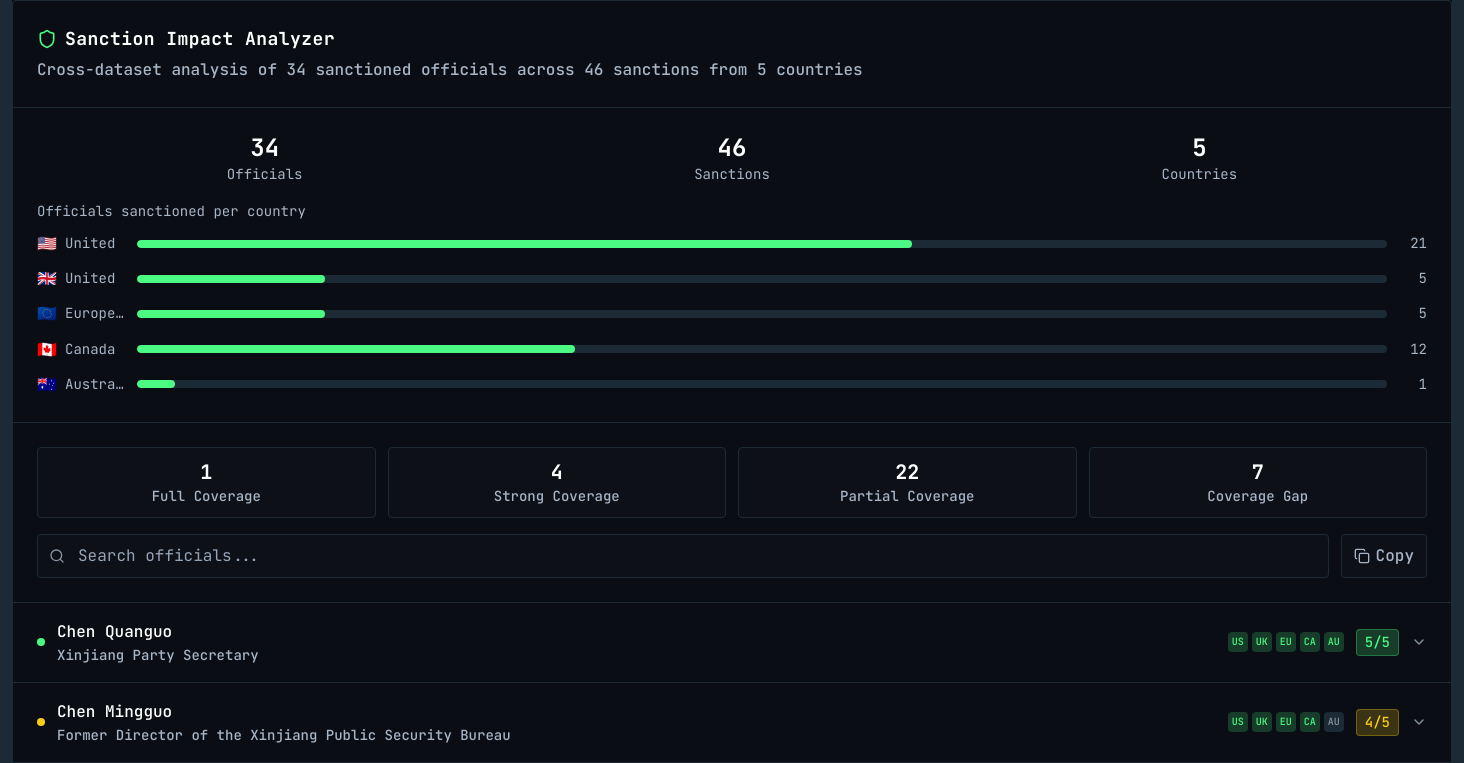
Test: SanctionImpactAnalyzer › shows Clear button when coverage filter is active
The width and height of the screenshot is (1464, 763).
Click the button "1 Full Coverage": (206, 482) [37,447,376,518]
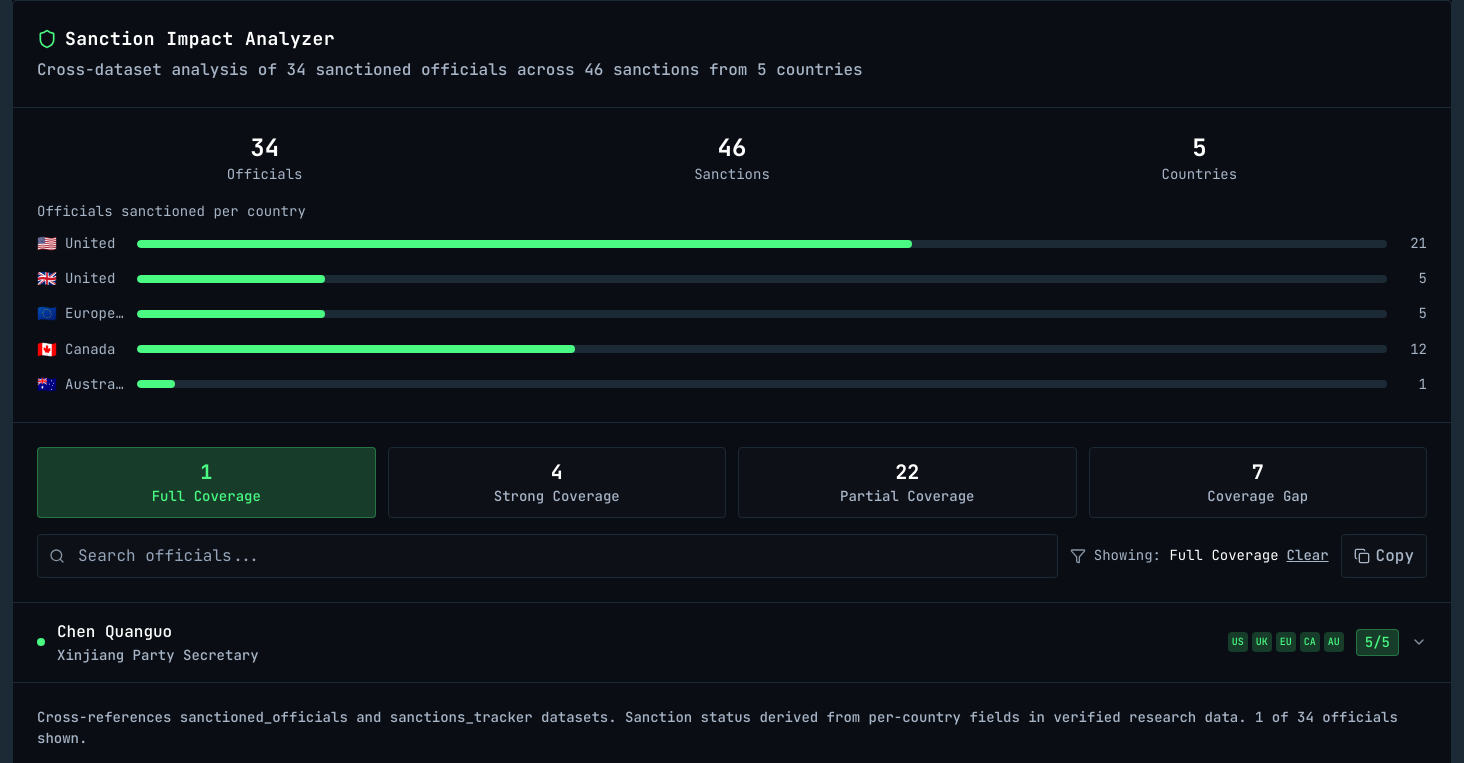
Check: the button "Clear" is shown, box [1287,545,1329,566]
